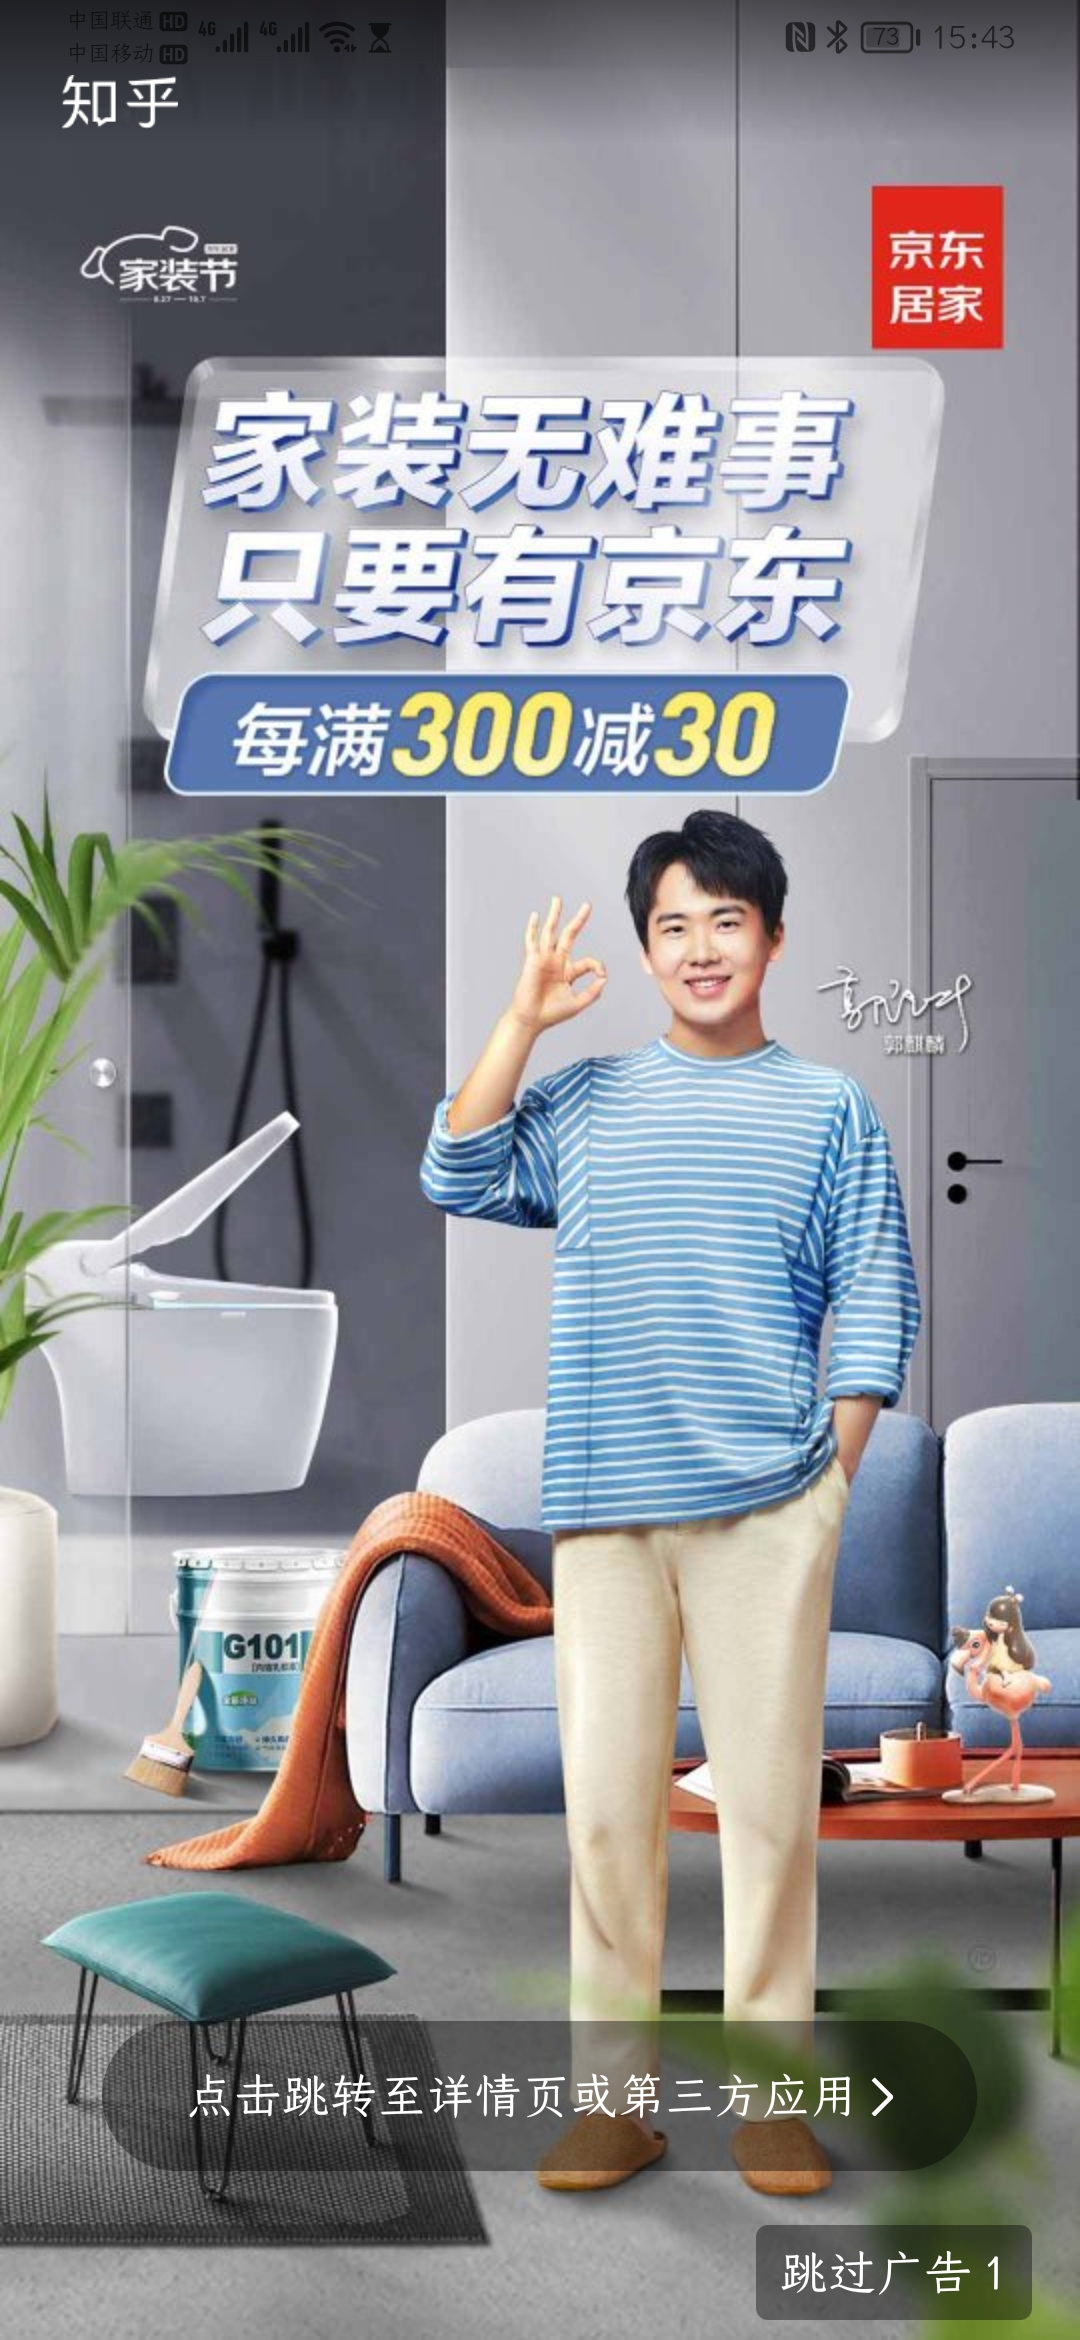skip: (755, 2228, 1032, 2315)
